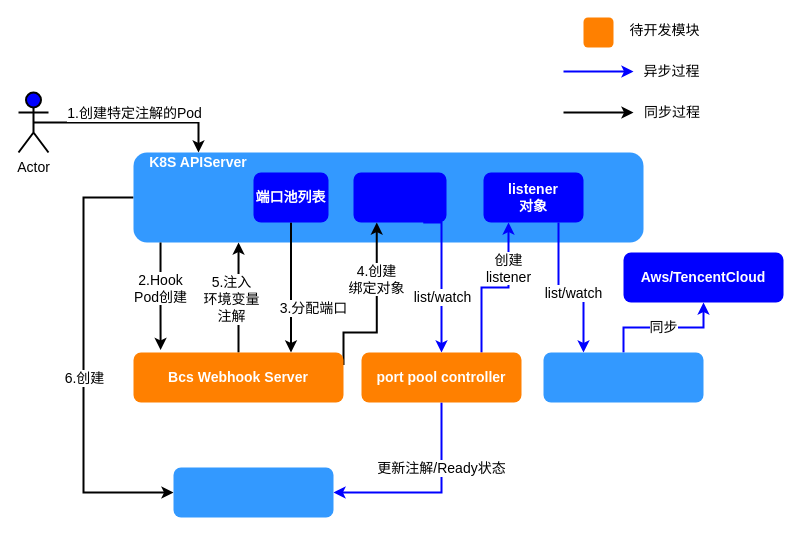
This 801x534 diagram has some shape labels left out. Here are the shapes that lost their labels. From the top down, the centre of each, then its label:
the point at 399,197: 端口绑定对象
the point at 623,377: bcs-ingress-controller
the point at 253,492: Pod
